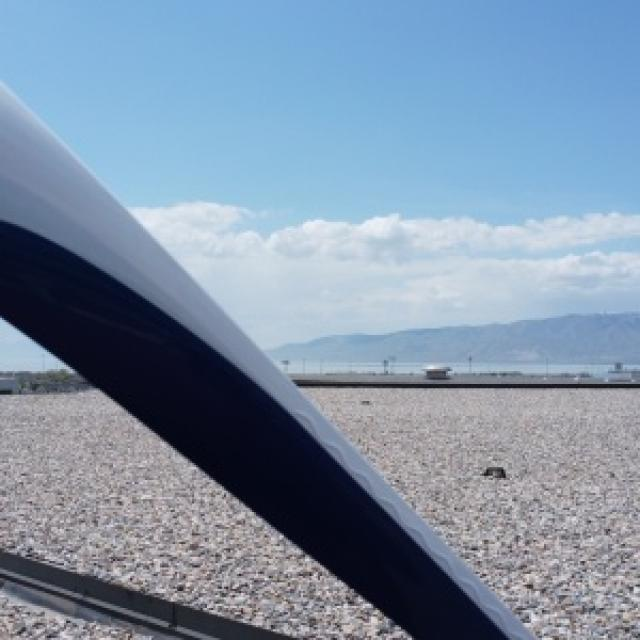healthy: (299, 0, 403, 196)
